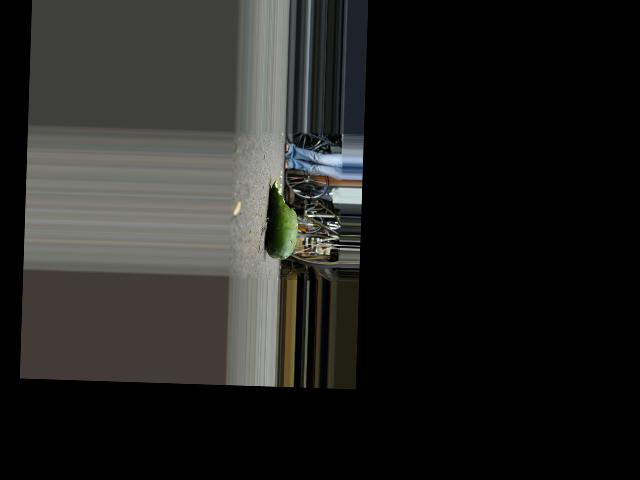cucumber: (265, 178, 299, 260)
